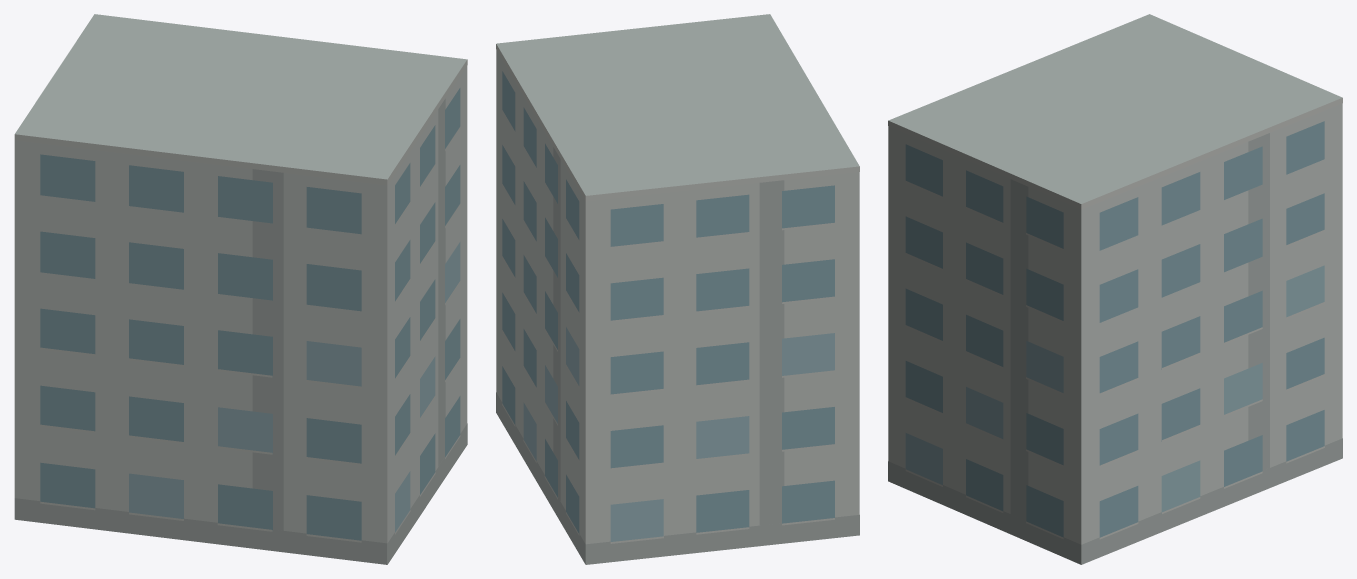
The model's file is survey-upis-32891636.glb.
3 views of the same model, side by side, from view 1: azimuth 30°, elevation 25°; view 2: azimuth 150°, elevation 25°; view 3: azimuth 270°, elevation 25° (orthographic). The views are drawn at different scales.
Parts seen in each view (by area): view 1: survey-upis-32891636.tmp; view 2: survey-upis-32891636.tmp; view 3: survey-upis-32891636.tmp.
Part boxes in pixels (x1,y1,x2,y2): survey-upis-32891636.tmp: (14,14,467,564); survey-upis-32891636.tmp: (496,14,859,564); survey-upis-32891636.tmp: (888,14,1342,564).
Size of the model in its own units: 17.98 by 15.9 by 18.17.
